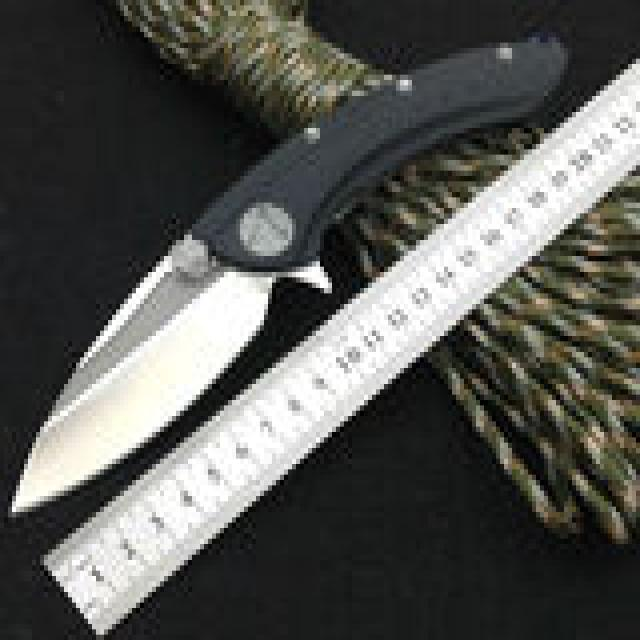Knife: (14, 30, 579, 526)
